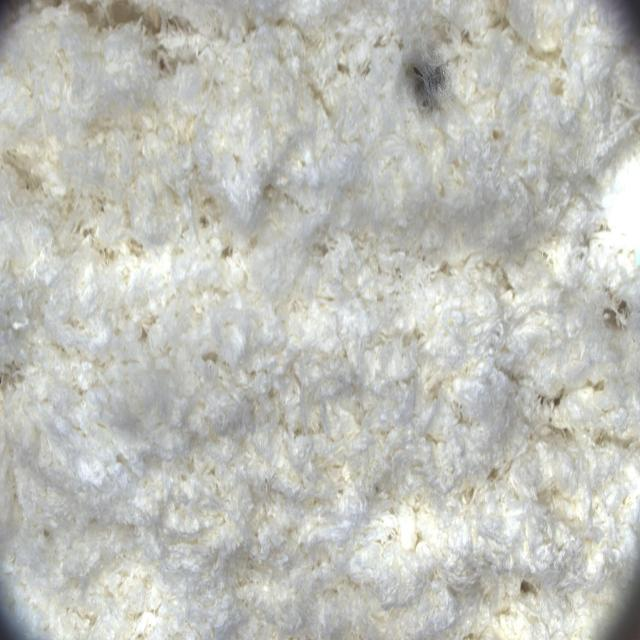dust: (361, 16, 478, 133)
